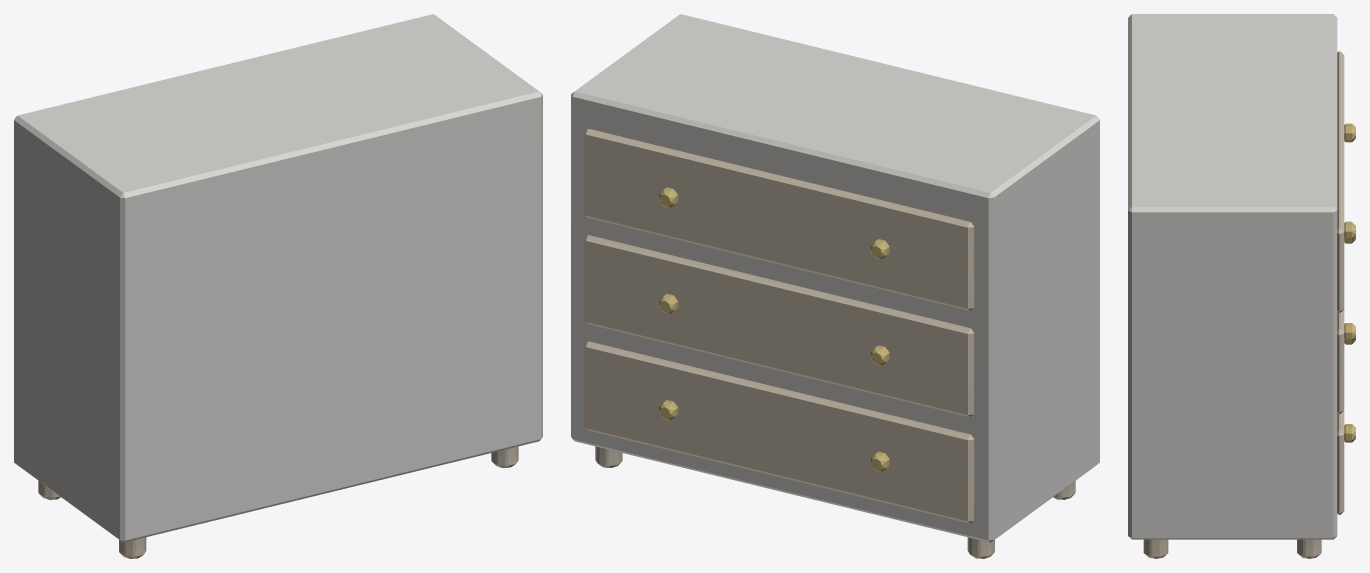
The model's file is furn_dresser__white.glb.
The picture shows the model from 3 angles, left to right: view 1: azimuth 30°, elevation 25°; view 2: azimuth 150°, elevation 25°; view 3: azimuth 270°, elevation 25°; orthographic projection. The views are drawn at different scales.
Size of the model in its own units: 1 by 0.85 by 0.49.
